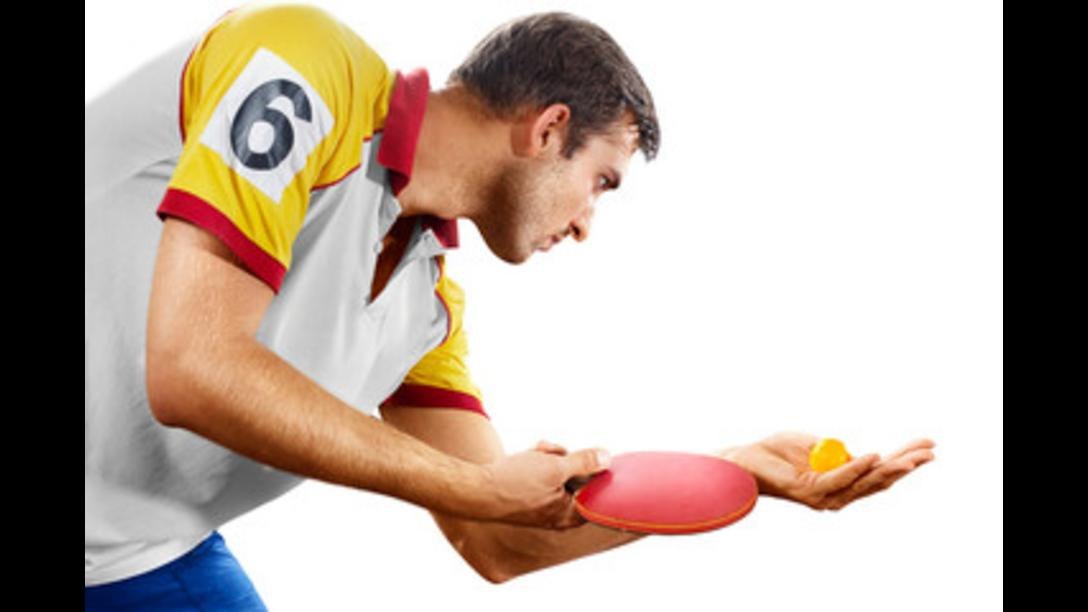Table-Tennis-Ball: (811, 438, 847, 472)
